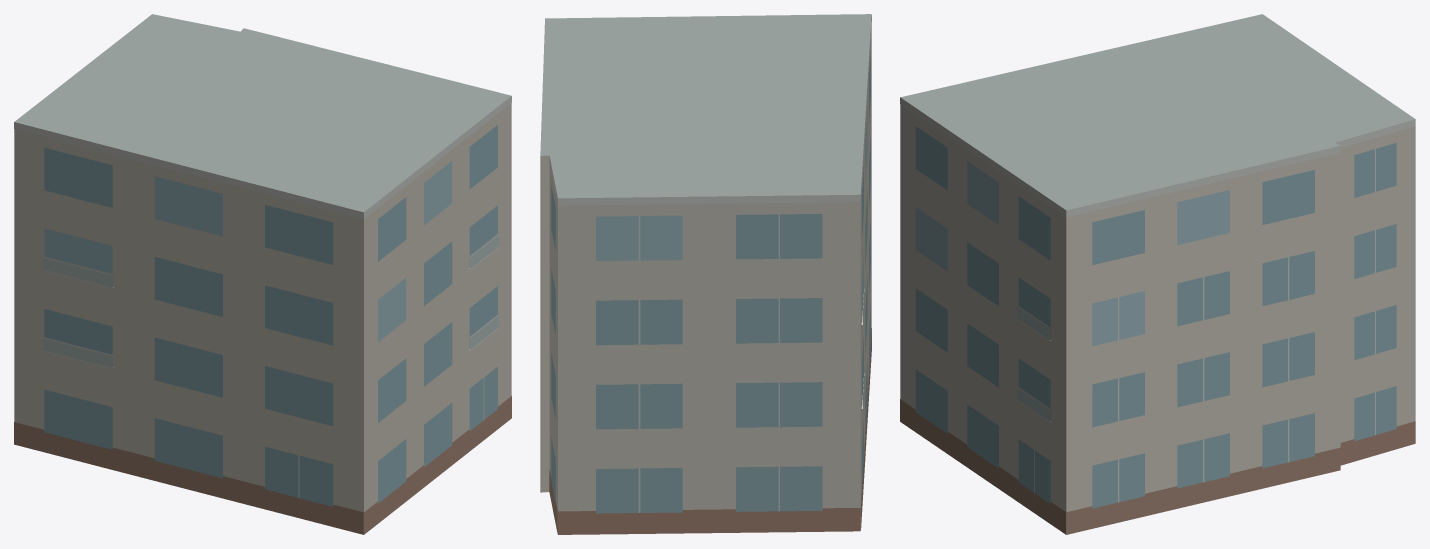
The model's file is survey-upis-32627509.glb.
3 views of the same model, side by side, from view 1: azimuth 30°, elevation 25°; view 2: azimuth 150°, elevation 25°; view 3: azimuth 270°, elevation 25° (orthographic). The views are drawn at different scales.
Parts seen in each view (by area): view 1: survey-upis-32627509.tmp; view 2: survey-upis-32627509.tmp; view 3: survey-upis-32627509.tmp.
Part boxes in pixels (x1,y1,x2,y2): survey-upis-32627509.tmp: (14, 14, 511, 534); survey-upis-32627509.tmp: (540, 14, 871, 534); survey-upis-32627509.tmp: (900, 14, 1415, 534).
Bounding box in the file's own units: 14.68 × 11.3 × 16.28.
